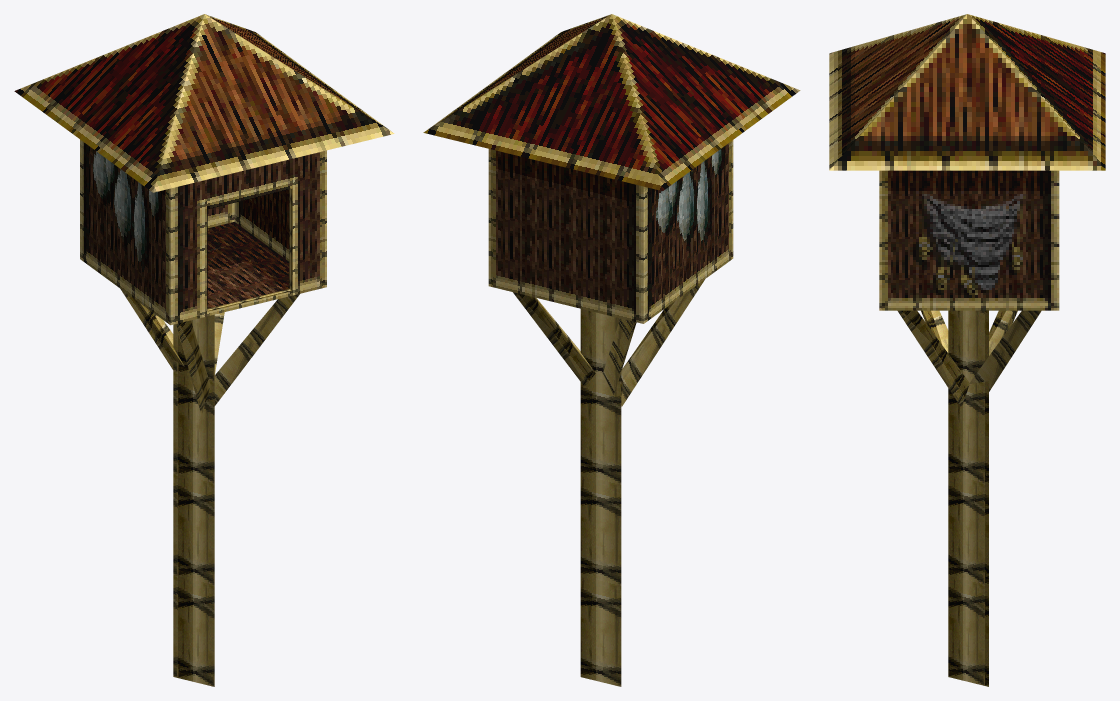
Rendered from Hut2.fbx.
3 renders of one model, left to right at view 1: azimuth 30°, elevation 25°; view 2: azimuth 150°, elevation 25°; view 3: azimuth 270°, elevation 25°, orthographic.
Parts seen in each view (by area): view 1: HUT2; view 2: HUT2; view 3: HUT2.
Boxes of the visible parts, x1,y1,x2,y2 form: HUT2: (14, 14, 394, 686); HUT2: (423, 14, 800, 686); HUT2: (829, 14, 1105, 686).
Bounding box in the file's own units: 30.87 × 81.27 × 30.72.
